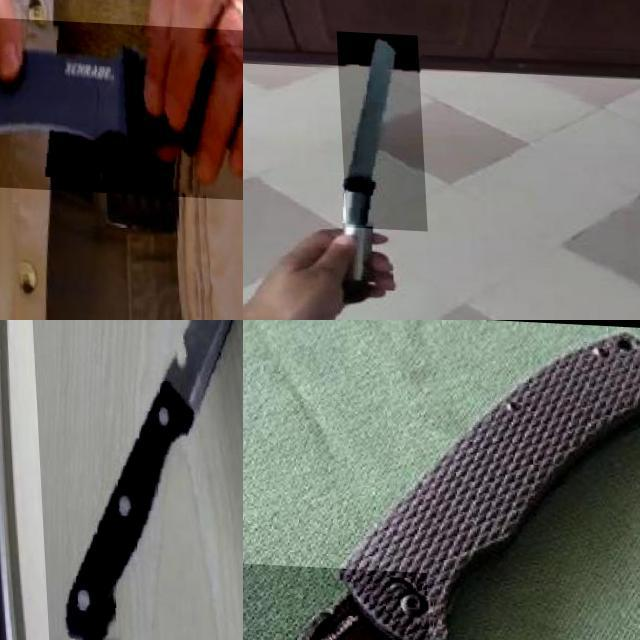-: (26, 320, 243, 640), (0, 10, 243, 200), (334, 29, 424, 228)
